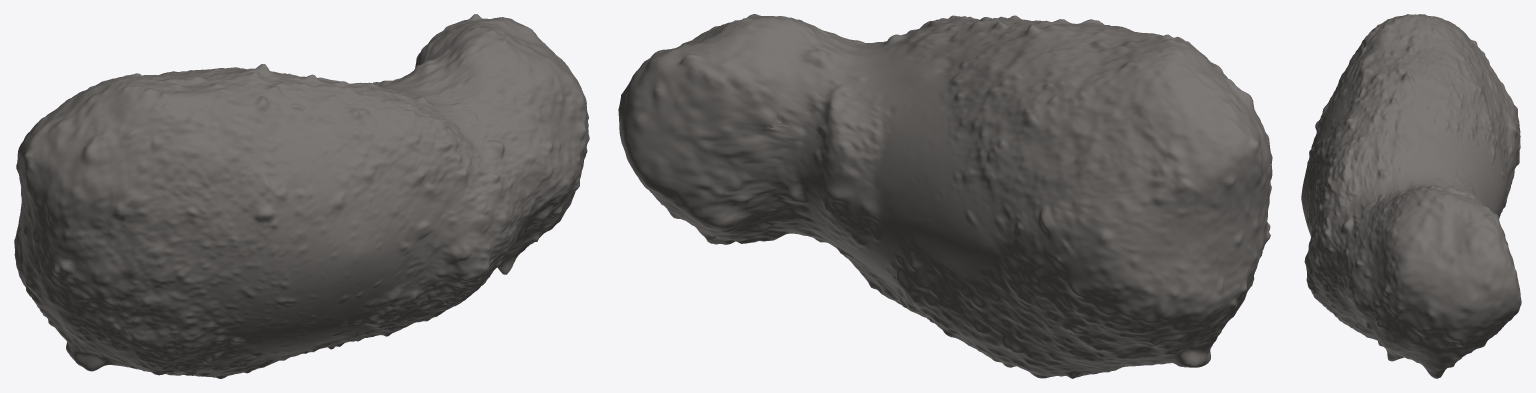
Rendered from itokawa.glb.
The picture shows the model from 3 angles, left to right: view 1: azimuth 30°, elevation 25°; view 2: azimuth 150°, elevation 25°; view 3: azimuth 270°, elevation 25°; orthographic projection. The views are drawn at different scales.
Visible parts, largest first — view 1: Object_2; view 2: Object_3, Object_2; view 3: Object_2, Object_3.
Boxes of the visible parts, box(x1,y1,x2,y2) form: Object_2: box(14, 14, 589, 378); Object_3: box(618, 25, 1193, 378); Object_2: box(637, 14, 1272, 378); Object_2: box(1301, 14, 1496, 378); Object_3: box(1404, 42, 1521, 378).
Size of the model in its own units: 0.5619 by 0.3053 by 0.2434.
1 material, 1 textured.
